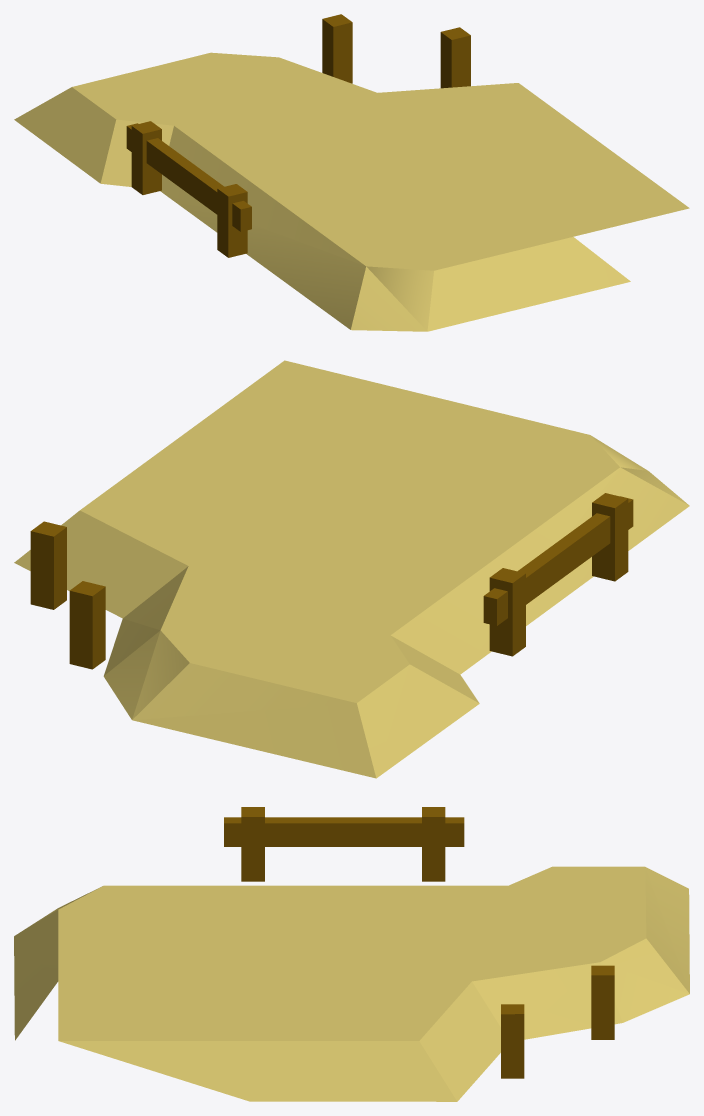
File: ThreeWayQuarterFilled_1.fbx
3 renders of one model, top to bottom at view 1: azimuth 30°, elevation 25°; view 2: azimuth 150°, elevation 25°; view 3: azimuth 270°, elevation 25°, orthographic. The views are drawn at different scales.
Visible parts, largest first — view 1: Normal - Three Way Quarter Filled.001; view 2: Normal - Three Way Quarter Filled.001; view 3: Normal - Three Way Quarter Filled.001.
Boxes of the visible parts, x1,y1,x2,y2 form: Normal - Three Way Quarter Filled.001: [14, 14, 689, 331]; Normal - Three Way Quarter Filled.001: [14, 360, 689, 778]; Normal - Three Way Quarter Filled.001: [14, 807, 689, 1101].
Bounding box in the file's own units: 111 × 20.48 × 150.
